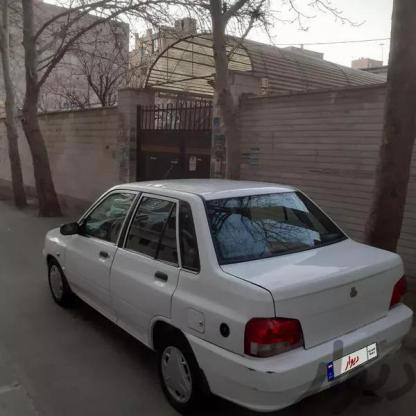car: (31, 175, 411, 409)
